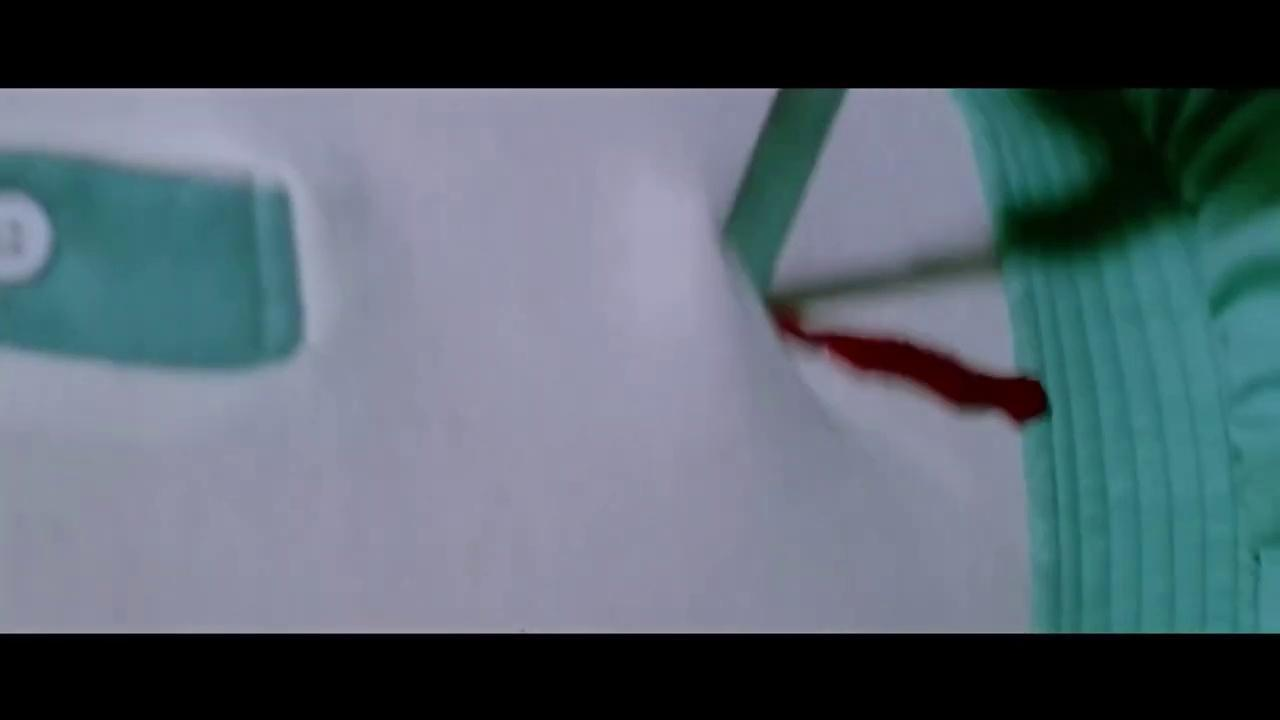Fire: (770, 305, 1050, 422)
